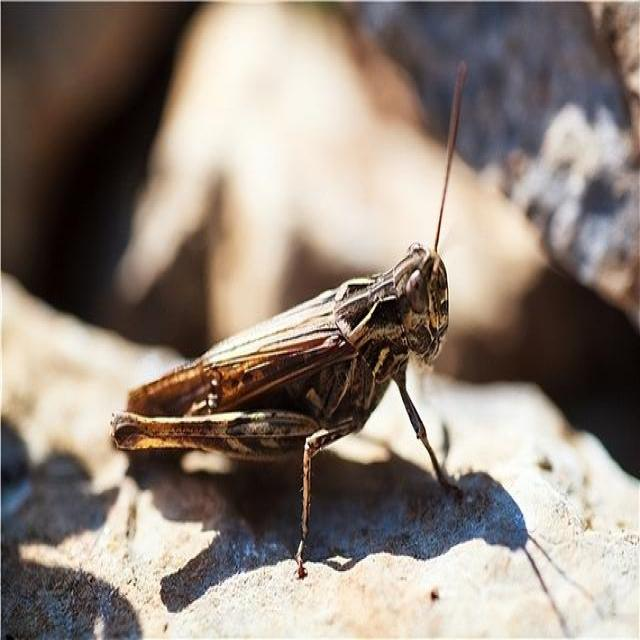ZhaMeng: (100, 225, 474, 547)
